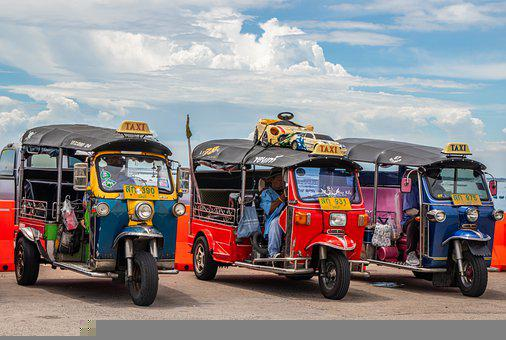threewheel: (11, 120, 186, 307), (186, 138, 371, 300), (337, 138, 505, 296)
